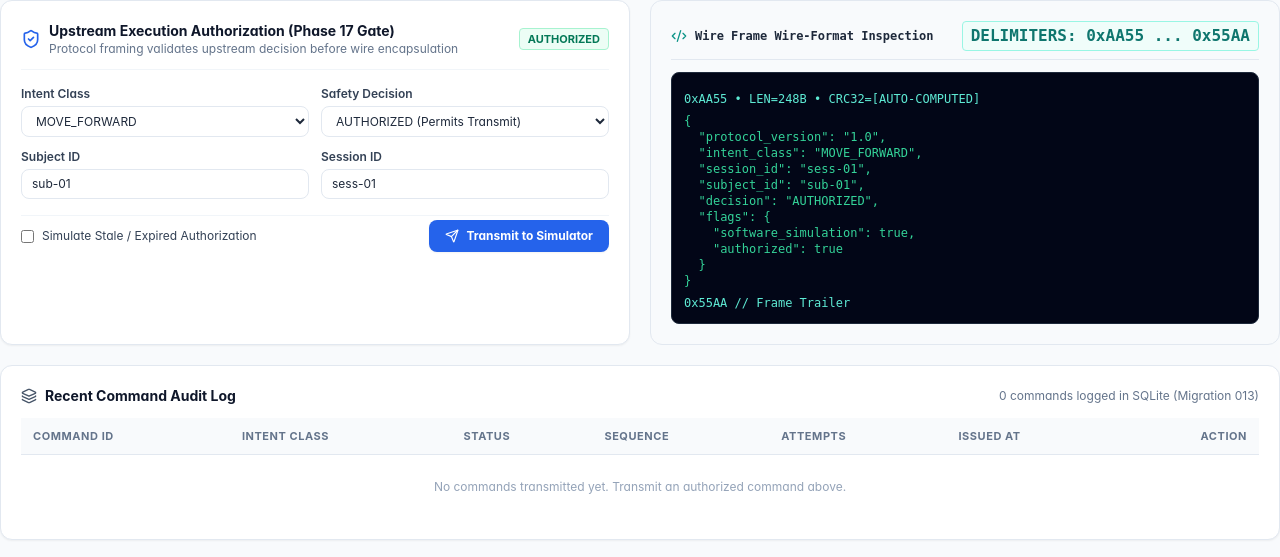
Test: Phase 19: Command Transport & Protocol Workspace Components › CommandConsole validates upstream safety decision and shows invariant warning on non-authorized decisions
Expected: the heading "Upstream Execution Authorization (Phase 17 Gate)" is shown, [49,22,395,39]
# Change safety decision to DENIED
Select "DENIED (Strict Zero Transmit)" in the dropdown below "Safety Decision" at (465, 122), box [321,106,609,137]
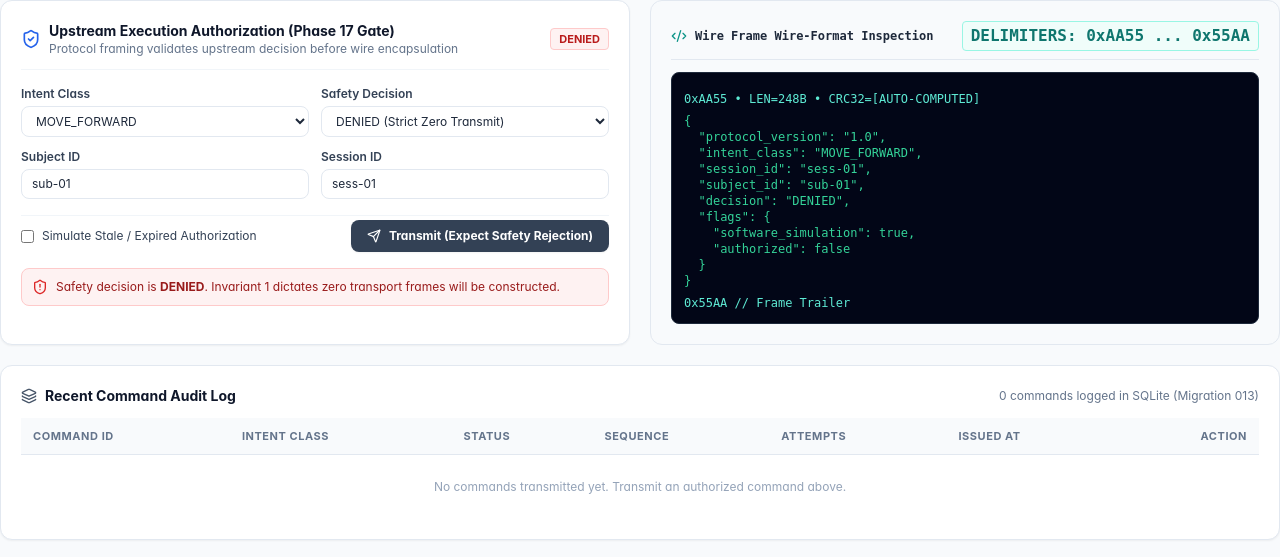
Result: the text "Invariant 1 dictates zero transport frames will be constructed" is shown at [204,279,560,294]
